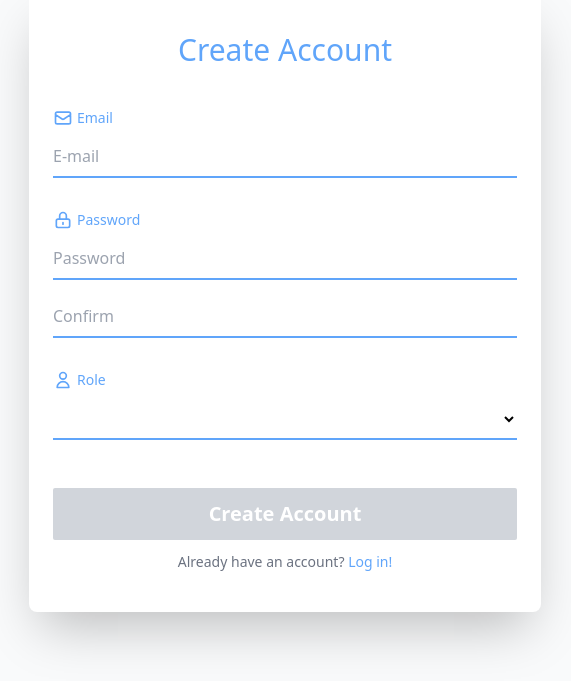
<CreateAccount /> › renders email required error
Type "wont@work" into the field with placeholder "E-mail" at (285, 157), box left=53, top=136, right=517, bottom=178
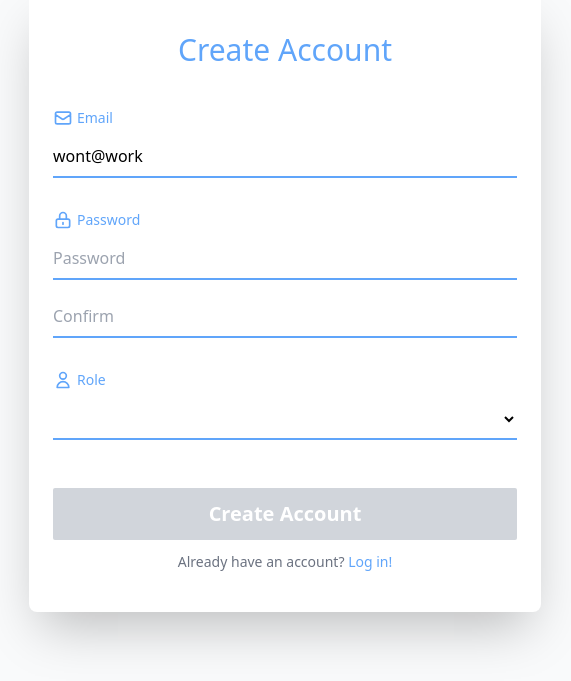
Clear the field with placeholder "E-mail" at (285, 157), box left=53, top=136, right=517, bottom=178
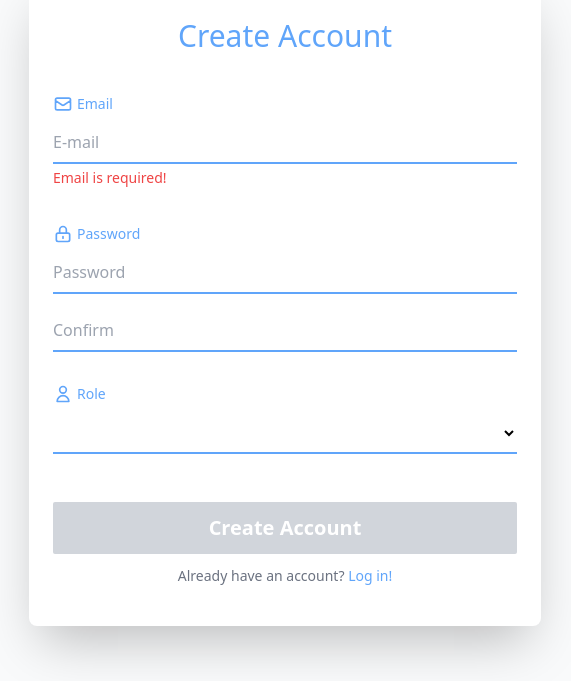
expect the message reads "Email is required!": met, box left=53, top=168, right=167, bottom=187
